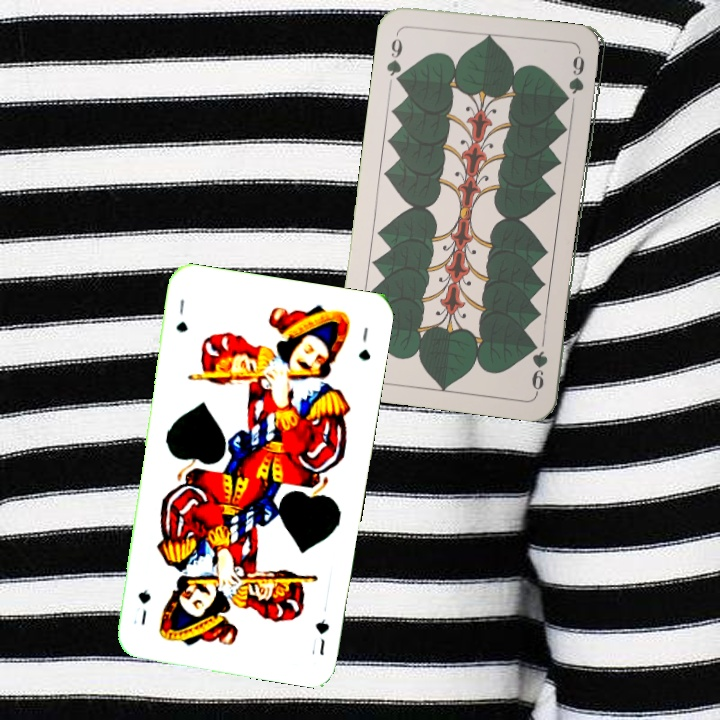G9: (382, 26, 406, 86), (527, 347, 550, 396)
GU: (311, 615, 332, 658), (171, 295, 190, 335)
